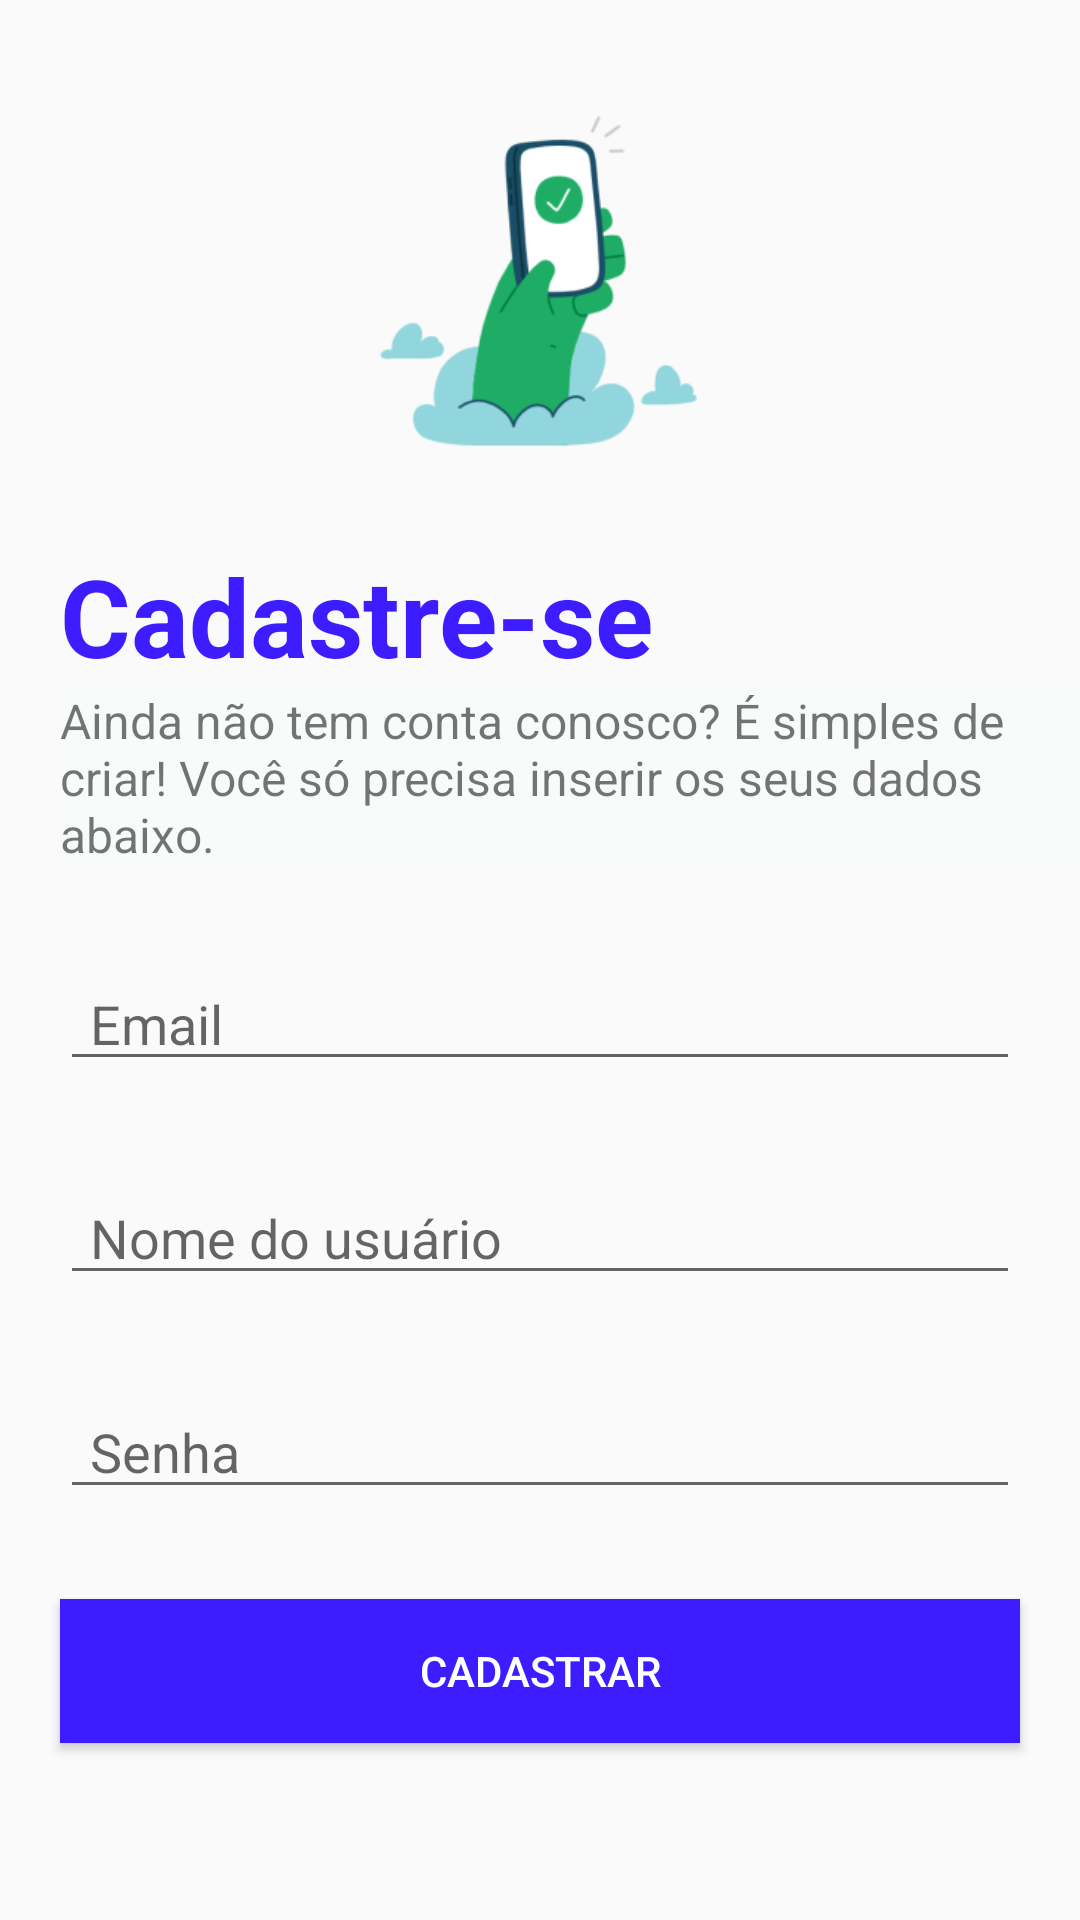

Icon bounding boxes for this 1080w x 1920h phone screenshot, format (x1, y1, x2, y2):
handsphone: (380, 116, 697, 446)
